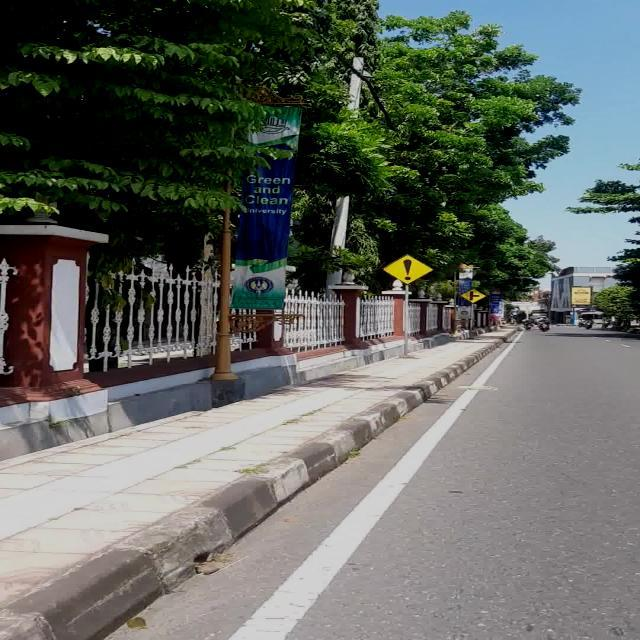Hati-Hati: (382, 253, 433, 286)
